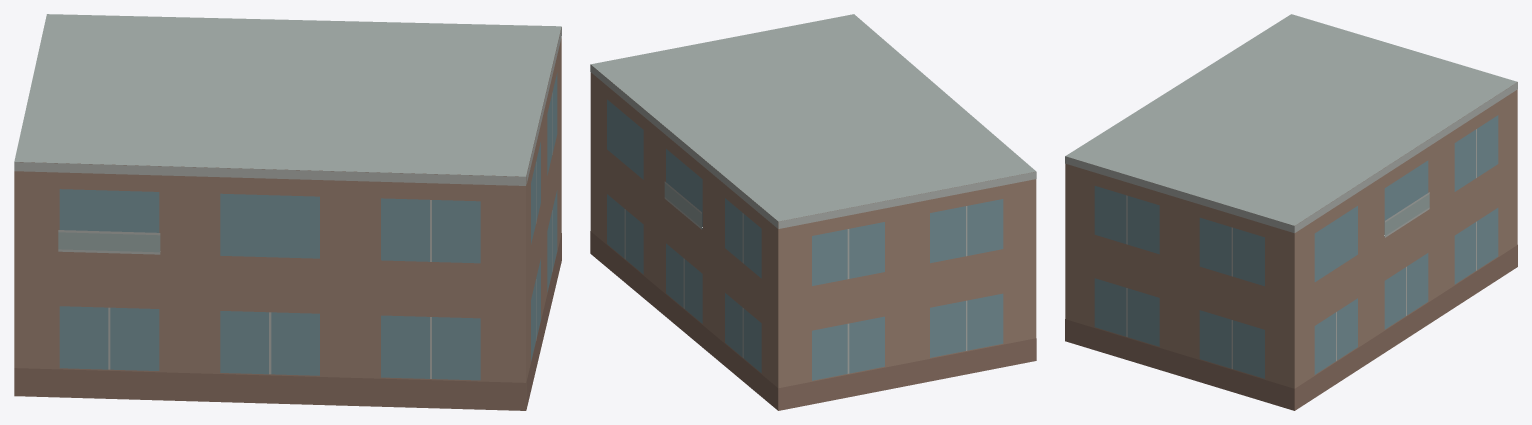
Rendered from survey-upis-32650362.glb.
The picture shows the model from 3 angles, left to right: view 1: azimuth 30°, elevation 25°; view 2: azimuth 150°, elevation 25°; view 3: azimuth 270°, elevation 25°; orthographic projection. The views are drawn at different scales.
Parts seen in each view (by area): view 1: survey-upis-32650362.tmp; view 2: survey-upis-32650362.tmp; view 3: survey-upis-32650362.tmp.
Part boxes in pixels (x1,y1,x2,y2): survey-upis-32650362.tmp: (14, 14, 561, 410); survey-upis-32650362.tmp: (590, 14, 1036, 410); survey-upis-32650362.tmp: (1065, 14, 1517, 410).
Bounding box in the file's own units: 14.99 × 6.1 × 13.53.
